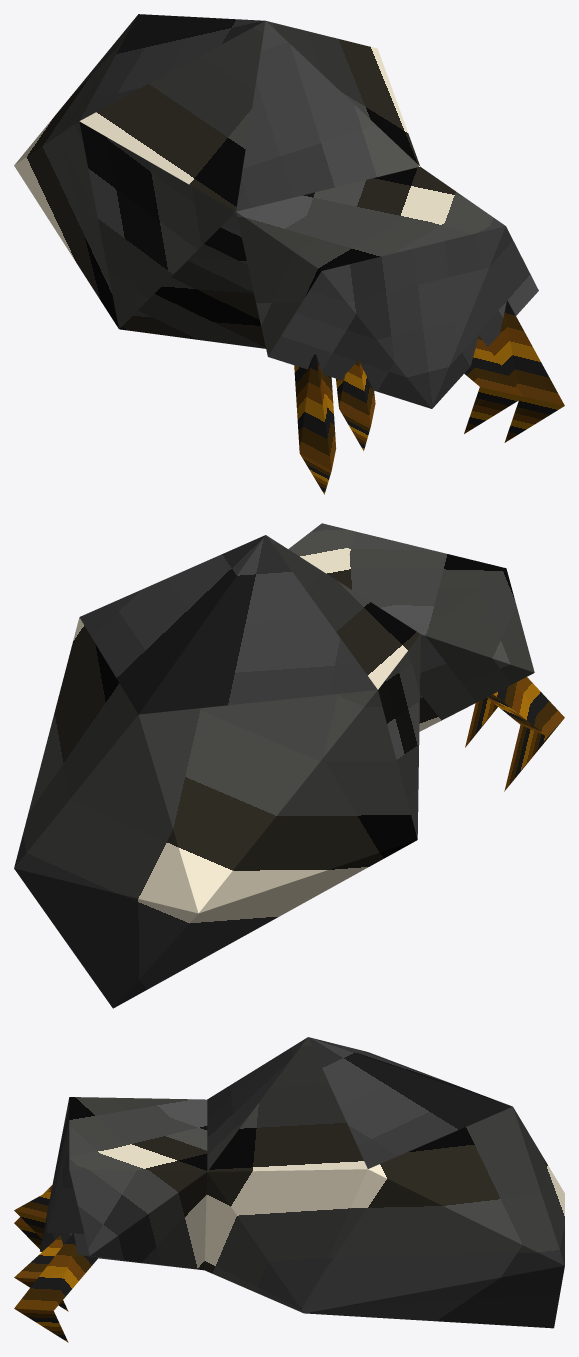
Rendered from mini_spider_body.obj.
The picture shows the model from 3 angles, top to bottom: view 1: azimuth 30°, elevation 25°; view 2: azimuth 150°, elevation 25°; view 3: azimuth 270°, elevation 25°; orthographic projection. The views are drawn at different scales.
Visible parts, largest first — view 1: Torus.003_Torus.010; view 2: Torus.003_Torus.010; view 3: Torus.003_Torus.010.
Boxes of the visible parts, x1=… form: Torus.003_Torus.010: x1=14, y1=14, x2=564, y2=494; Torus.003_Torus.010: x1=14, y1=523, x2=564, y2=1008; Torus.003_Torus.010: x1=14, y1=1037, x2=564, y2=1342.
Bounding box in the file's own units: 0.5048 × 0.5847 × 1.
